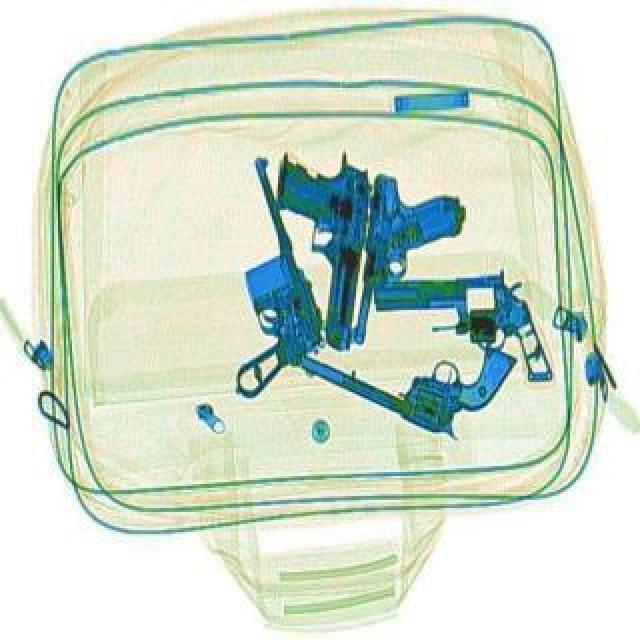gun: (162, 152, 344, 402), (294, 276, 518, 450), (254, 142, 374, 350), (348, 168, 470, 352), (370, 264, 552, 384)
